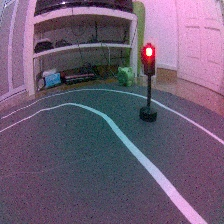red: (138, 41, 159, 124)
